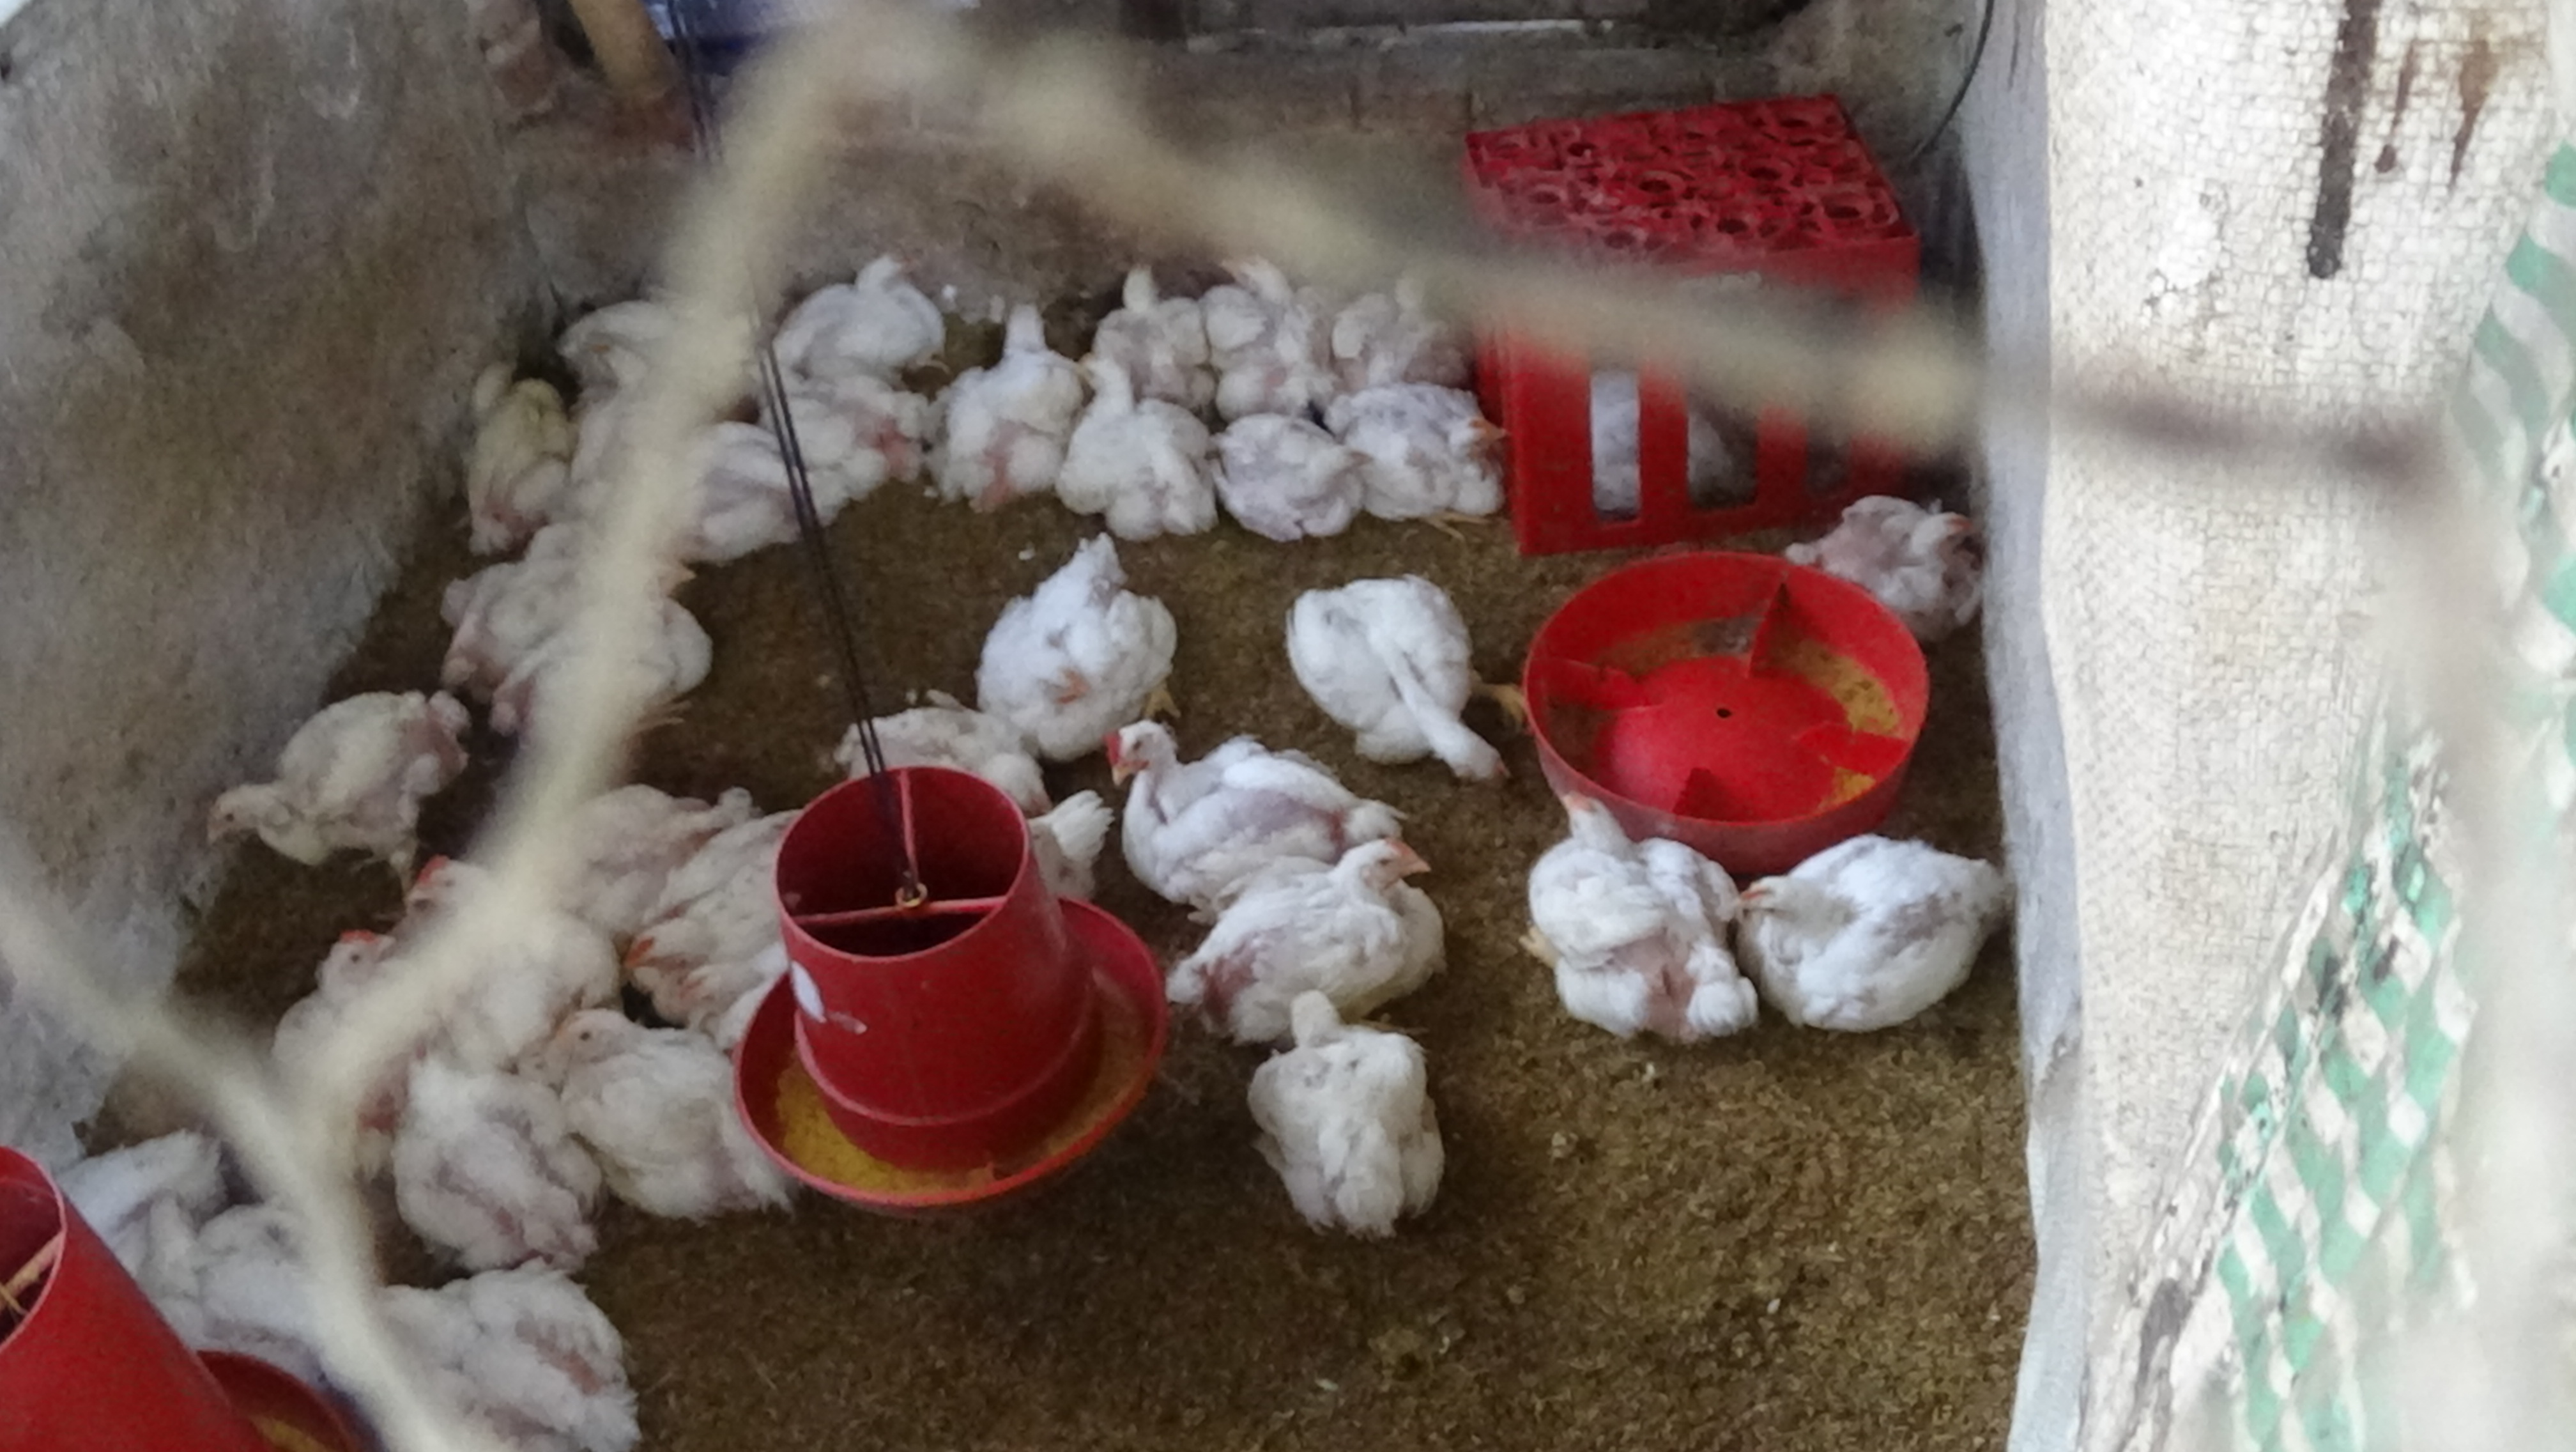Pollos: (1509, 802, 1748, 1071), (1762, 829, 2029, 1064), (1258, 551, 1504, 802), (545, 1009, 809, 1218), (350, 1263, 635, 1452), (387, 1055, 591, 1293), (1253, 999, 1437, 1236), (1212, 822, 1440, 1011), (285, 673, 481, 877), (991, 558, 1189, 737), (1789, 478, 2029, 616), (950, 283, 1081, 499), (1352, 377, 1523, 540), (1102, 707, 1269, 866), (1063, 363, 1215, 535), (863, 707, 1033, 839), (451, 363, 564, 554), (619, 896, 787, 1020), (614, 551, 708, 742), (1226, 393, 1343, 545), (1219, 225, 1327, 382), (803, 237, 936, 358), (1092, 259, 1226, 374), (1341, 255, 1449, 374), (317, 917, 405, 1015), (402, 841, 499, 926)
